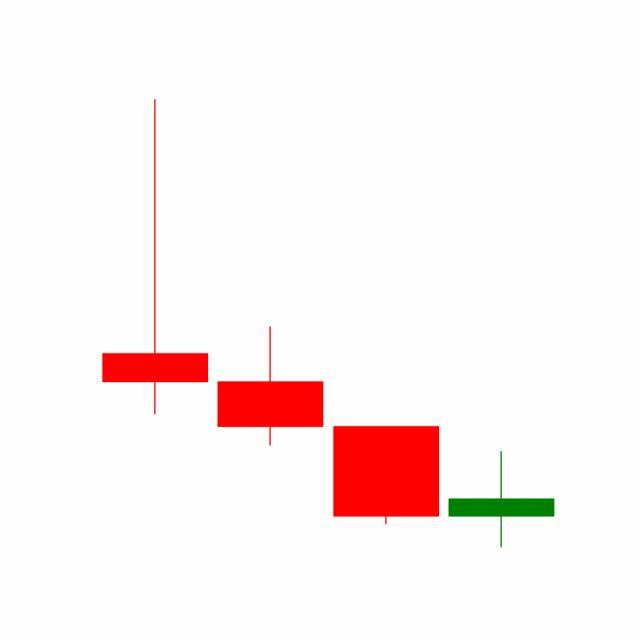Spinning Top: (444, 451, 560, 549)
